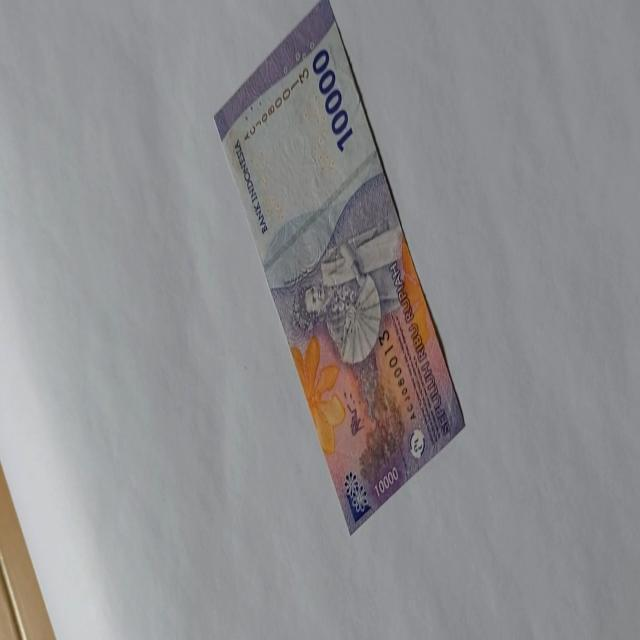sepuluh ribu rupiah: (212, 1, 466, 536)
